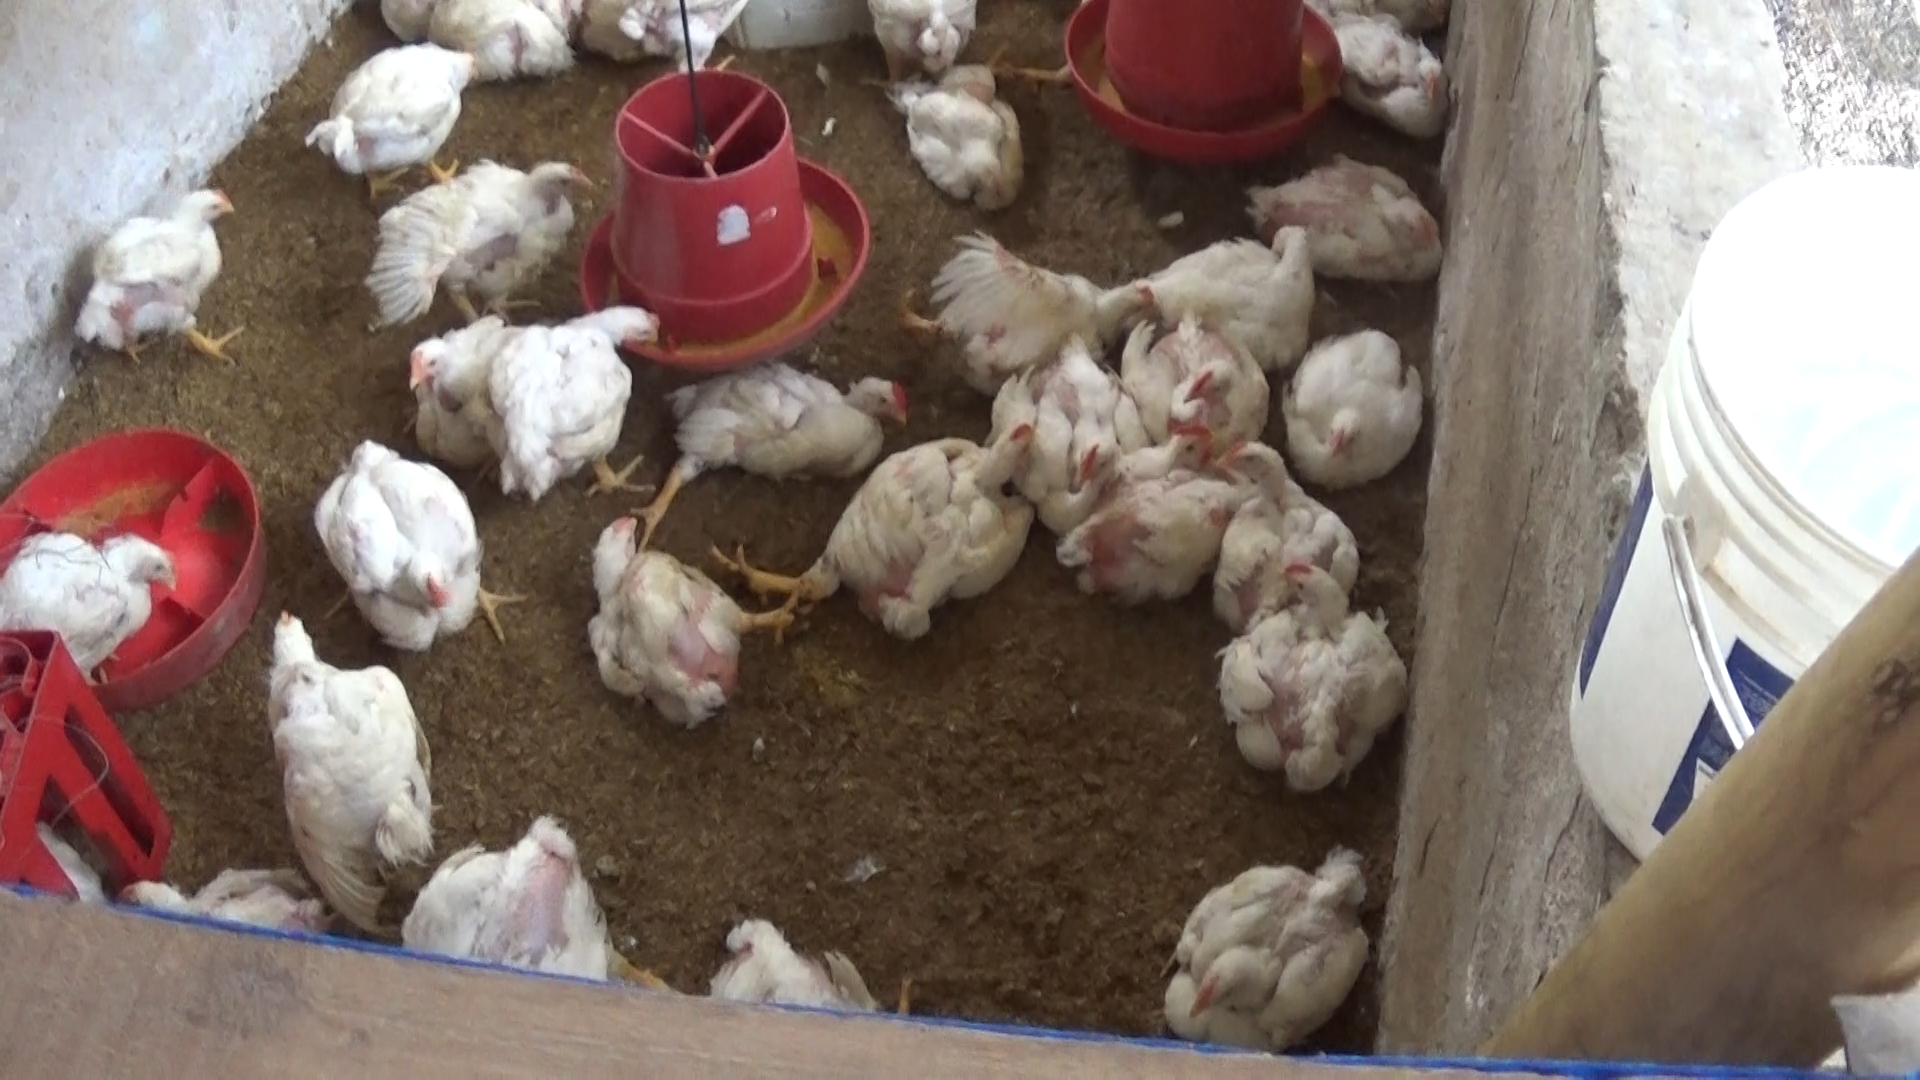Pollos: (243, 608, 448, 882), (793, 418, 1034, 645), (1133, 825, 1382, 1040), (897, 223, 1191, 396), (585, 504, 791, 748), (632, 353, 920, 522), (338, 153, 597, 332), (290, 440, 512, 646), (1215, 558, 1404, 798), (400, 778, 611, 972), (69, 173, 237, 393), (1269, 295, 1470, 477), (517, 305, 688, 513), (284, 32, 493, 196), (1266, 135, 1472, 289), (0, 513, 191, 676), (1054, 436, 1246, 599), (1221, 431, 1364, 617), (982, 339, 1134, 512), (400, 293, 535, 479), (884, 65, 1036, 218), (1325, 7, 1493, 135), (1174, 214, 1316, 353), (1139, 314, 1263, 451)
